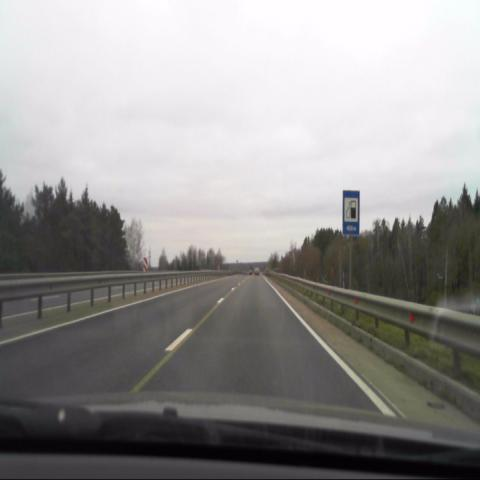7_3: (342, 189, 359, 234)
